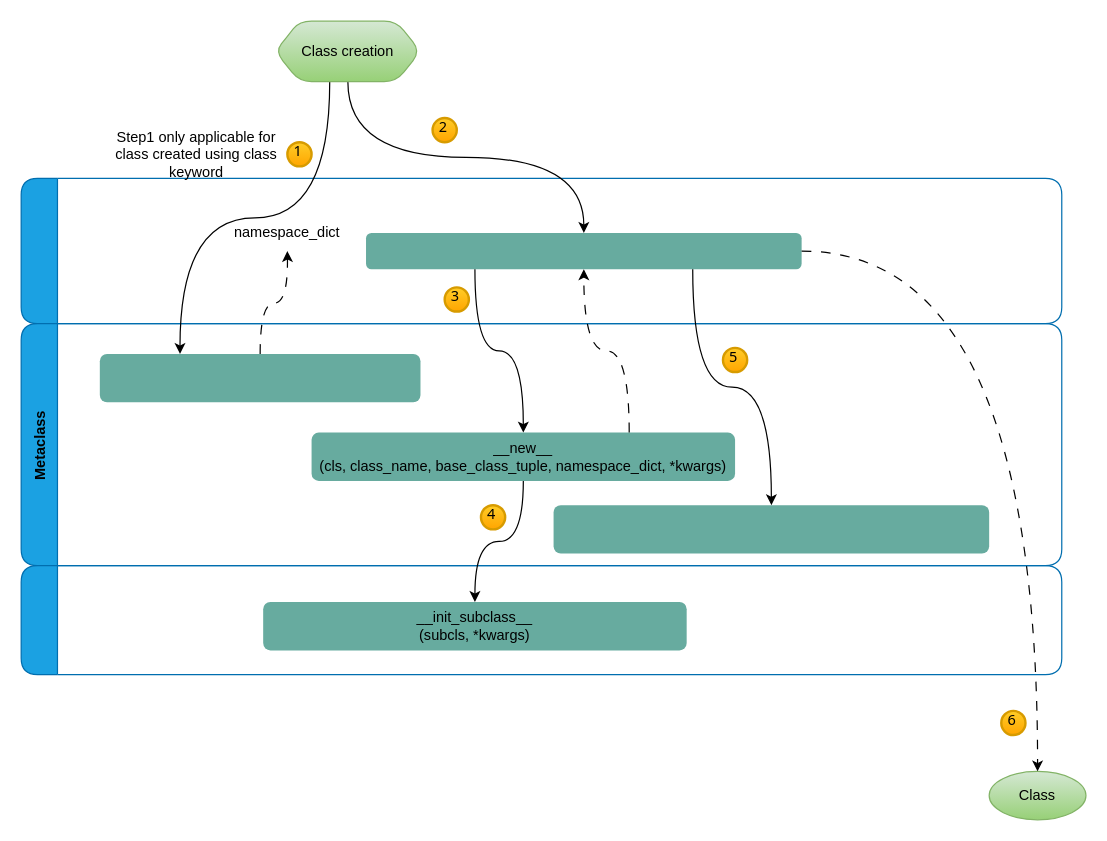
Some shapes in this 1107 by 841 pixel diagram are drawn without their labels. The shapes that lost their labels are listed below. From the top down, each one's box as (x1, y1, x2, y2) in pixels, then its label:
(20, 177, 1062, 324): Meta-Metaclass
(365, 232, 801, 269): __call__ (self, class_name, base_class_tuple, namespace_dict, *kwargs)
(99, 353, 420, 402): __prepare__ (cls, class_name, base_class_tuple, **kwargs)
(553, 505, 989, 553): __init__ (self, class_name, base_class_tuple,namespace_dict, *kwargs)
(20, 564, 1062, 675): Baseclass
